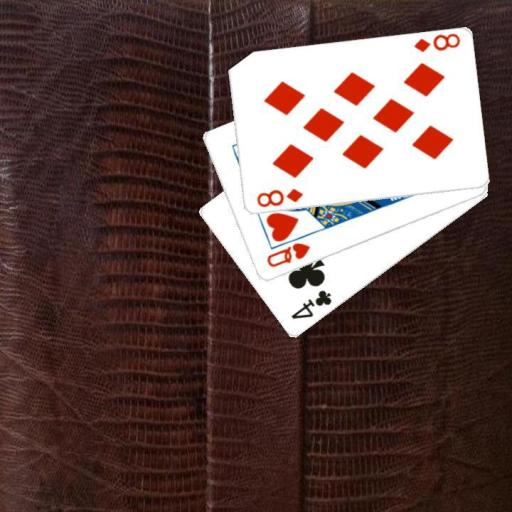4C: (288, 287, 334, 322)
8D: (254, 186, 305, 209), (411, 31, 462, 54)
QH: (263, 240, 312, 270)
